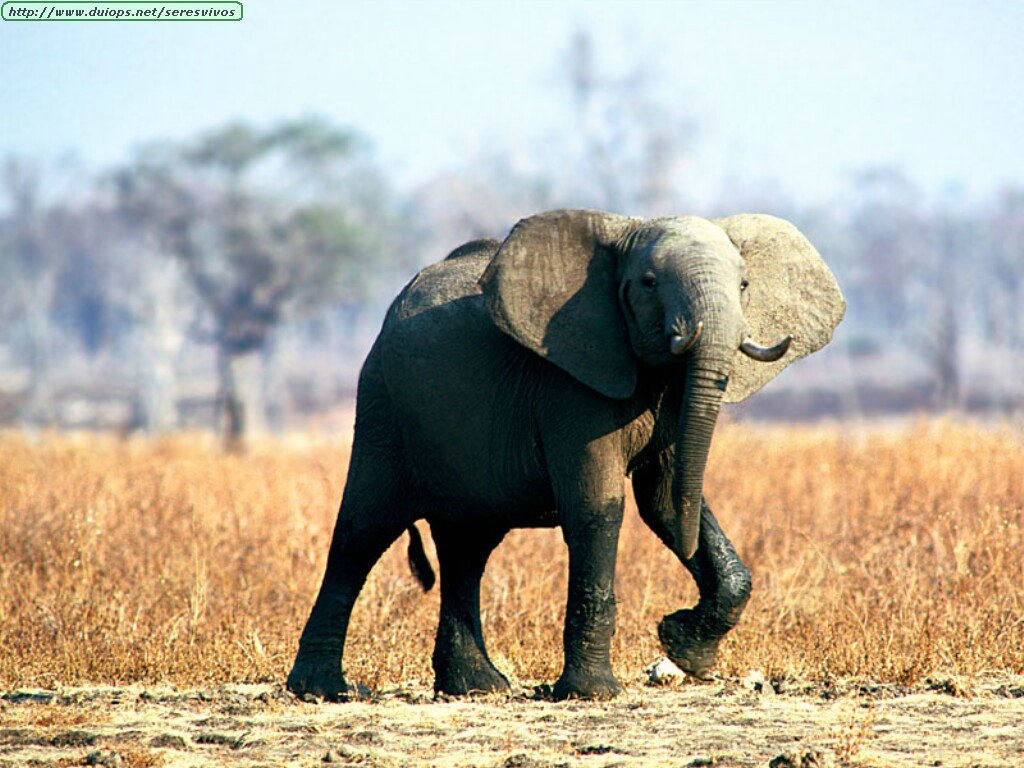elephant: (281, 191, 841, 710)
